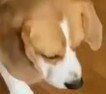Dog: (11, 20, 98, 89)
